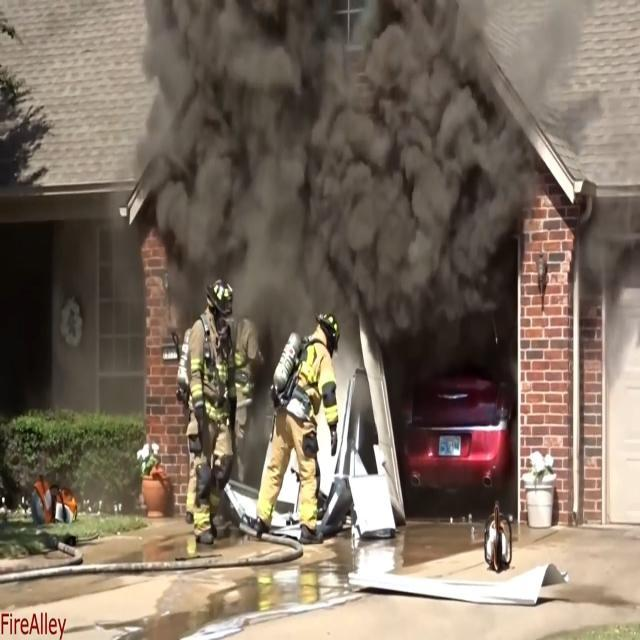Smoke: (174, 13, 501, 300)
